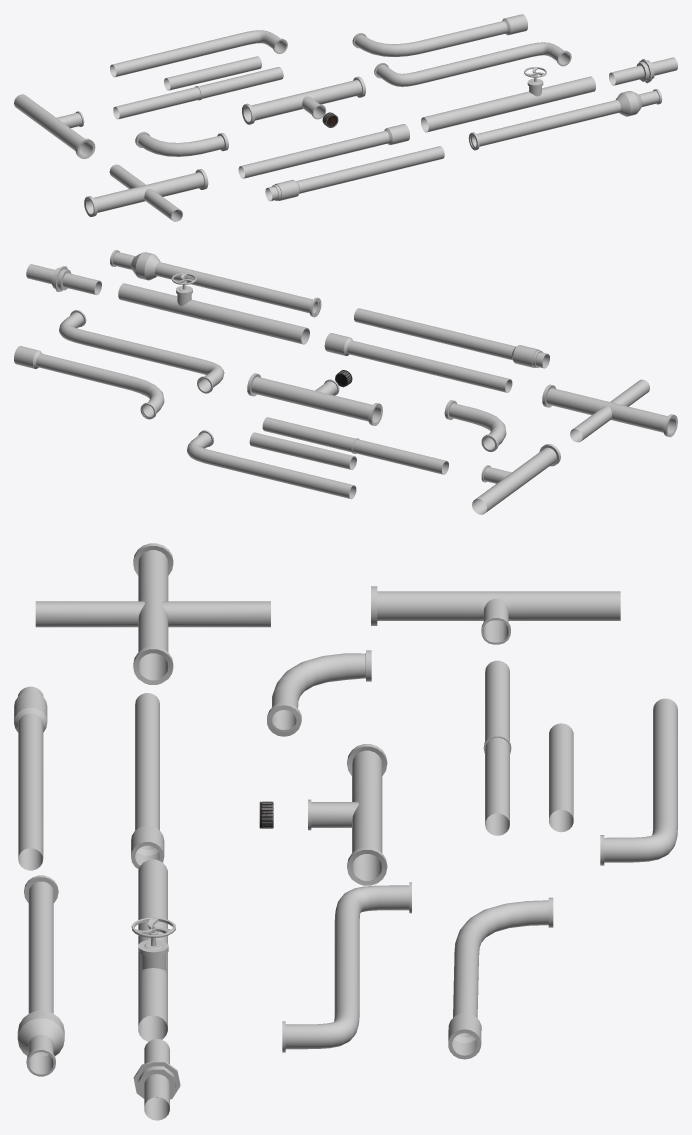
3 renders of one model, top to bottom at view 1: azimuth 30°, elevation 25°; view 2: azimuth 150°, elevation 25°; view 3: azimuth 270°, elevation 25°, orthographic. The views are drawn at different scales.
Visible parts, largest first — view 1: valve.001, Pipe.059, Pipe.066, Pipe.063, Pipe.067, Pipe.069, Pipe.061, Pipe.065, Pipe.064, Pipe.057, Pipe.060, Pipe.068 (+2 smaller); view 2: valve.001, Pipe.059, Pipe.066, Pipe.067, Pipe.063, Pipe.065, Pipe.061, Pipe.064, Pipe.057, Pipe.069, Pipe.060, Pipe.078 (+2 smaller); view 3: Pipe.059, Pipe.060, Pipe.063, Pipe.066, Pipe.057, Pipe.069, valve.001, Pipe.061, Pipe.067, Pipe.065, Pipe.064, Pipe.068 (+2 smaller).
Boxes of the visible parts, bbox=[...] form: valve.001: bbox=[421, 67, 595, 132]; Pipe.059: bbox=[84, 164, 208, 221]; Pipe.066: bbox=[468, 89, 662, 150]; Pipe.063: bbox=[374, 42, 571, 86]; Pipe.067: bbox=[265, 146, 444, 201]; Pipe.069: bbox=[352, 14, 527, 56]; Pipe.061: bbox=[110, 30, 287, 77]; Pipe.065: bbox=[238, 124, 409, 178]; Pipe.064: bbox=[113, 67, 283, 119]; Pipe.057: bbox=[242, 76, 365, 124]; Pipe.060: bbox=[14, 94, 95, 159]; Pipe.068: bbox=[135, 131, 228, 156]; valve.001: bbox=[118, 273, 309, 344]; Pipe.059: bbox=[542, 379, 677, 442]; Pipe.066: bbox=[110, 250, 321, 317]; Pipe.067: bbox=[354, 308, 549, 368]; Pipe.063: bbox=[59, 310, 224, 393]; Pipe.065: bbox=[324, 333, 512, 392]; Pipe.061: bbox=[187, 430, 356, 499]; Pipe.064: bbox=[262, 417, 448, 474]; Pipe.057: bbox=[247, 373, 382, 425]; Pipe.069: bbox=[14, 346, 164, 419]; Pipe.060: bbox=[472, 444, 560, 514]; Pipe.078: bbox=[249, 432, 356, 469]; Pipe.059: bbox=[35, 543, 270, 684]; Pipe.060: bbox=[371, 586, 620, 644]; Pipe.063: bbox=[282, 882, 411, 1052]; Pipe.066: bbox=[17, 875, 64, 1076]; Pipe.057: bbox=[308, 744, 387, 885]; Pipe.069: bbox=[448, 897, 553, 1059]; valve.001: bbox=[131, 859, 175, 1041]; Pipe.061: bbox=[600, 698, 677, 865]; Pipe.067: bbox=[14, 686, 47, 870]; Pipe.065: bbox=[131, 693, 164, 869]; Pipe.064: bbox=[483, 660, 511, 835]; Pipe.068: bbox=[267, 650, 371, 736].
Bounding box in the file's own units: 17.13 × 1.06 × 8.8.
